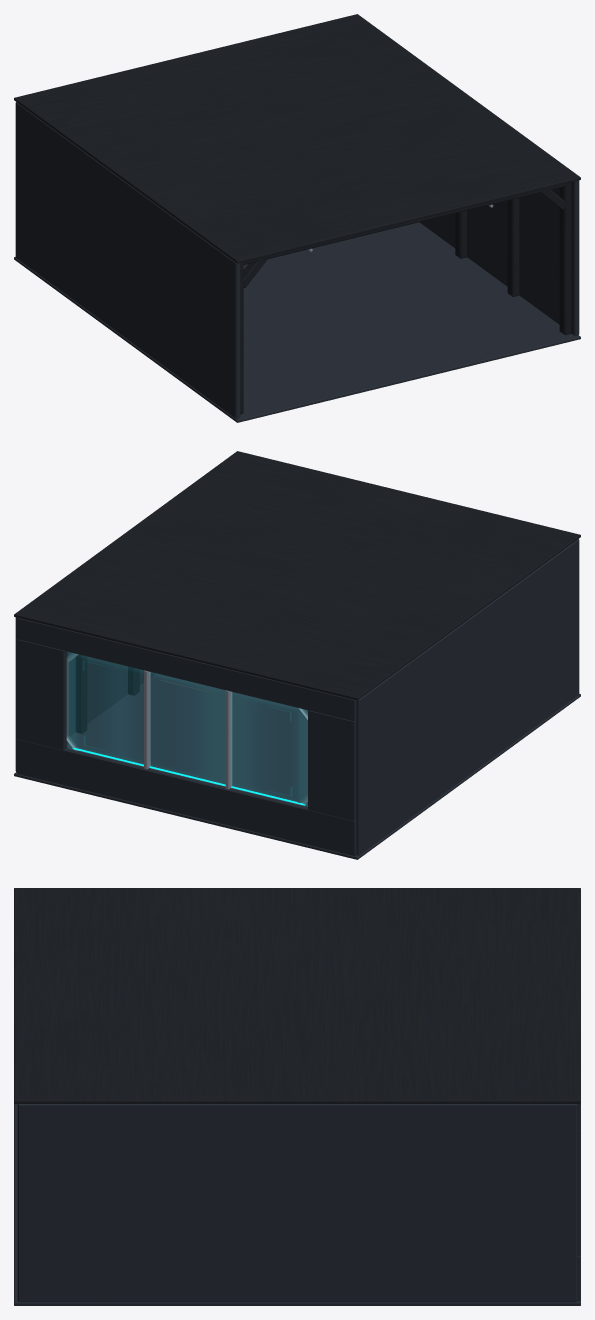
The model's file is room_06_shell.glb.
3 renders of one model, top to bottom at view 1: azimuth 30°, elevation 25°; view 2: azimuth 150°, elevation 25°; view 3: azimuth 270°, elevation 25°, orthographic. The views are drawn at different scales.
Parts seen in each view (by area): view 1: Room06_CarbonSlateDeckAndWalls, Room06_OctagonalDomeRibs; view 2: Room06_CarbonSlateDeckAndWalls, Room06_OctagonalDomeRibs, Room06_NorthSolariumTranslucentGlass, Room06_IrrigationPipesAndSolariumMullions, Room06_CyanSolariumAndCoveLED; view 3: Room06_OctagonalDomeRibs, Room06_CarbonSlateDeckAndWalls.
Boxes of the visible parts, <box> form: Room06_CarbonSlateDeckAndWalls: <box>14,102,580,422</box>; Room06_OctagonalDomeRibs: <box>14,14,580,414</box>; Room06_CarbonSlateDeckAndWalls: <box>14,539,580,859</box>; Room06_OctagonalDomeRibs: <box>14,451,580,733</box>; Room06_NorthSolariumTranslucentGlass: <box>68,652,307,806</box>; Room06_IrrigationPipesAndSolariumMullions: <box>66,653,307,805</box>; Room06_CyanSolariumAndCoveLED: <box>72,748,305,805</box>; Room06_OctagonalDomeRibs: <box>14,888,580,1103</box>; Room06_CarbonSlateDeckAndWalls: <box>14,1103,580,1305</box>.
Size of the model in its own units: 8 by 3.6 by 9.
Materials: 6 (6 with a texture image).
